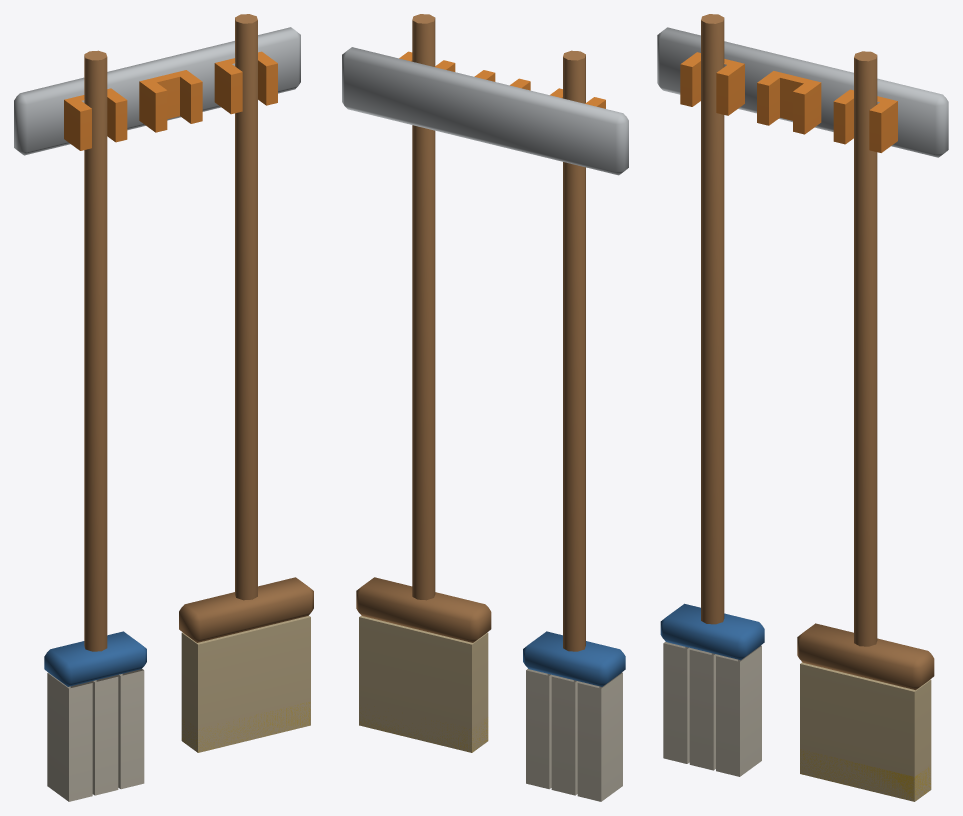
Rendered from MopRack_Wall_01.glb.
3 renders of one model, left to right at view 1: azimuth 30°, elevation 25°; view 2: azimuth 150°, elevation 25°; view 3: azimuth 330°, elevation 25°, orthographic.
Visible parts, largest first — view 1: SM_MopRack_Wall_01; view 2: SM_MopRack_Wall_01; view 3: SM_MopRack_Wall_01.
Part boxes in pixels (left/top/right/bottom): SM_MopRack_Wall_01: left=14, top=14, right=313, bottom=801; SM_MopRack_Wall_01: left=342, top=14, right=628, bottom=801; SM_MopRack_Wall_01: left=657, top=14, right=948, bottom=801.
Bounding box in the file's own units: 0.6 × 1.48 × 0.115.
1 material, 1 textured.
